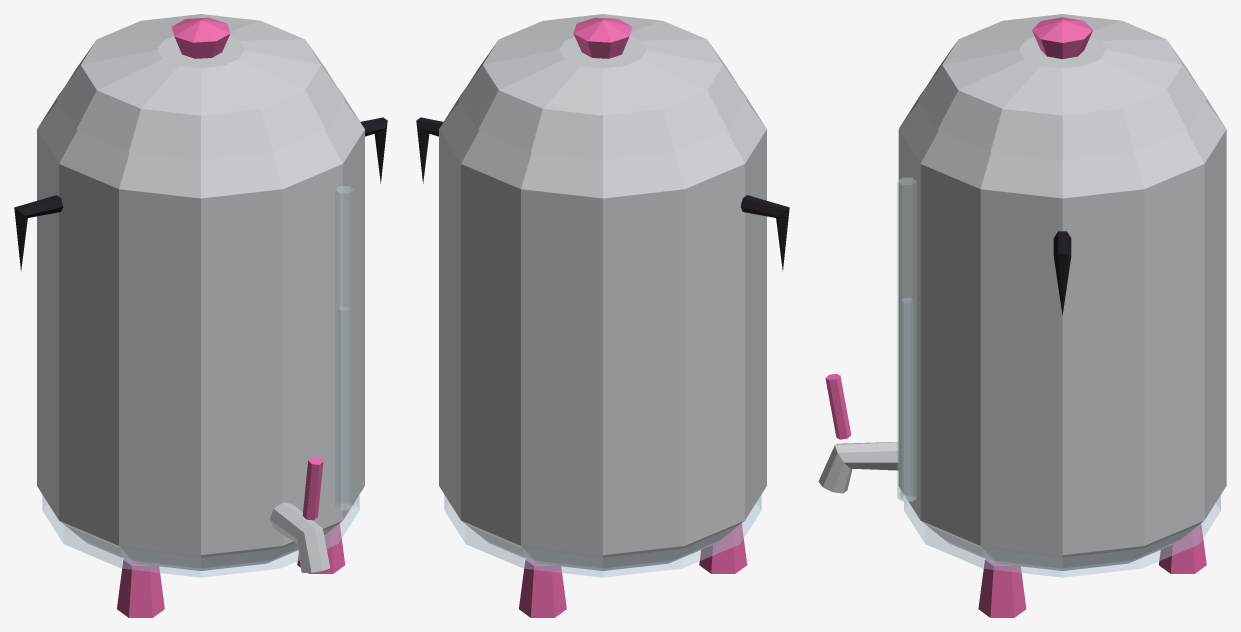
The picture shows the model from 3 angles, left to right: view 1: azimuth 30°, elevation 25°; view 2: azimuth 150°, elevation 25°; view 3: azimuth 270°, elevation 25°; orthographic projection.
Parts seen in each view (by area): view 1: body, lid_dome, sight_glass, water, sight_water, tap_body, foot_1, lid_knob, handle_l, lever_arm, foot_2, handle_r; view 2: body, lid_dome, water, foot_0, lid_knob, foot_1, handle_l, handle_r; view 3: body, lid_dome, sight_glass, water, sight_water, tap_body, foot_2, lid_knob, foot_0, lever_arm, handle_r.
Boxes of the visible parts, x1=… form: body: x1=37, y1=90, x2=364, y2=570; lid_dome: x1=57, y1=14, x2=344, y2=160; sight_glass: x1=335, y1=186, x2=354, y2=509; water: x1=42, y1=495, x2=359, y2=577; sight_water: x1=338, y1=306, x2=350, y2=508; tap_body: x1=270, y1=502, x2=329, y2=572; foot_1: x1=117, y1=559, x2=164, y2=617; lid_knob: x1=171, y1=17, x2=230, y2=58; handle_l: x1=14, y1=195, x2=63, y2=271; lever_arm: x1=302, y1=457, x2=323, y2=520; foot_2: x1=297, y1=523, x2=345, y2=573; handle_r: x1=360, y1=117, x2=387, y2=183; body: x1=439, y1=90, x2=766, y2=570; lid_dome: x1=459, y1=14, x2=746, y2=160; water: x1=444, y1=495, x2=761, y2=577; foot_0: x1=519, y1=559, x2=566, y2=617; lid_knob: x1=573, y1=17, x2=632, y2=58; foot_1: x1=699, y1=523, x2=747, y2=573; handle_l: x1=740, y1=195, x2=789, y2=271; handle_r: x1=416, y1=117, x2=443, y2=183; body: x1=898, y1=89, x2=1226, y2=570; lid_dome: x1=918, y1=14, x2=1206, y2=160; sight_glass: x1=897, y1=178, x2=916, y2=501; water: x1=904, y1=495, x2=1220, y2=577; sight_water: x1=901, y1=298, x2=913, y2=500; tap_body: x1=818, y1=442, x2=898, y2=493; foot_2: x1=978, y1=559, x2=1026, y2=617; lid_knob: x1=1032, y1=17, x2=1092, y2=58; foot_0: x1=1159, y1=524, x2=1206, y2=573; lever_arm: x1=825, y1=373, x2=851, y2=439; handle_r: x1=1053, y1=231, x2=1071, y2=315.
Size of the model in its own units: 0.3898 by 0.55 by 0.3733.
